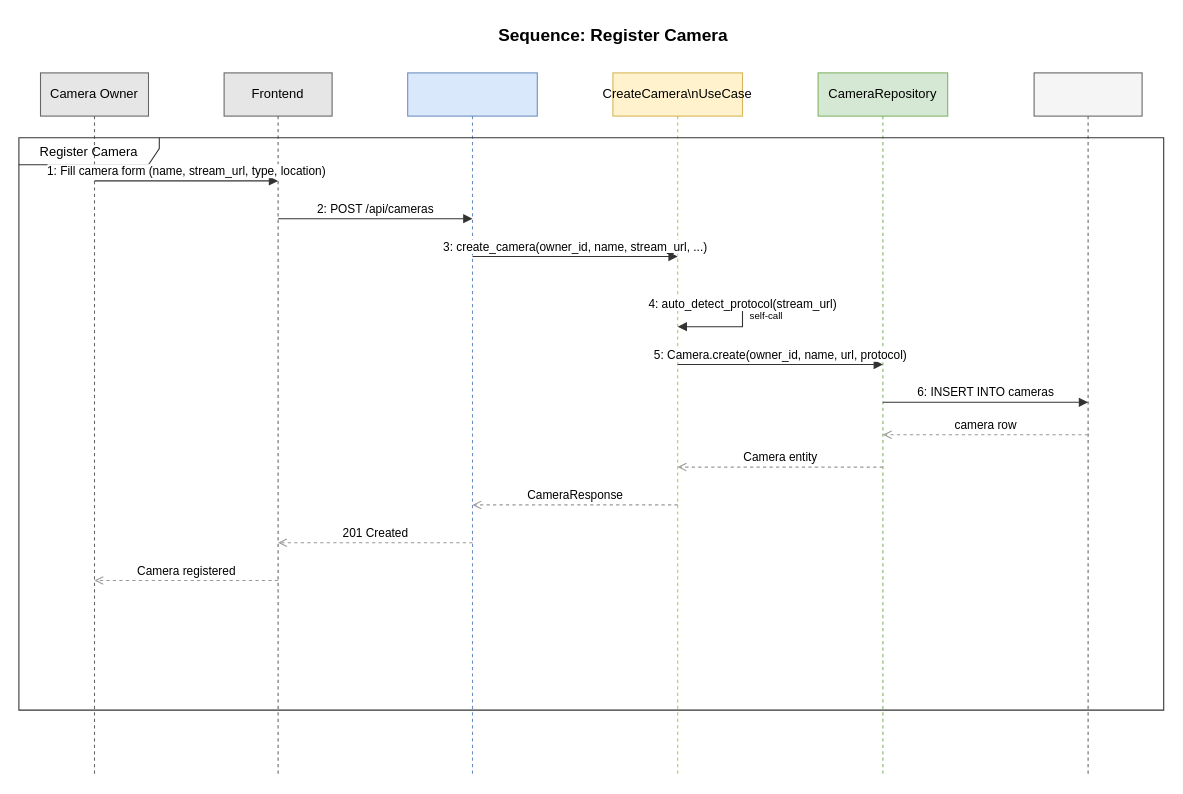
Some shapes in this 1183 by 794 pixel diagram are drawn without their labels. The shapes that lost their labels are listed below. From the top down, each one's box as (x1, y1, x2, y2) in pixels, then its label:
(407, 72, 537, 775): CameraController
(1033, 72, 1142, 775): PostgreSQL
